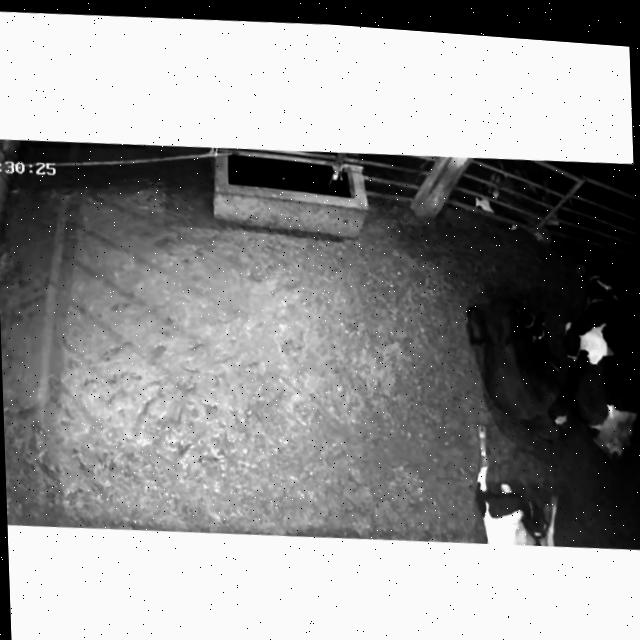lay: (459, 274, 575, 440), (452, 415, 582, 550), (568, 249, 640, 470)
